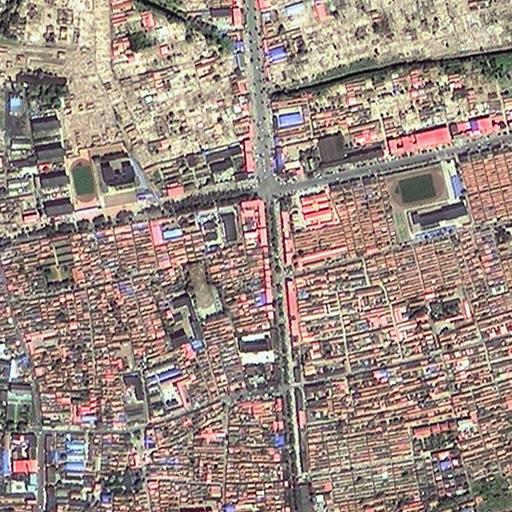school: (383, 155, 472, 240), (66, 143, 150, 212)
